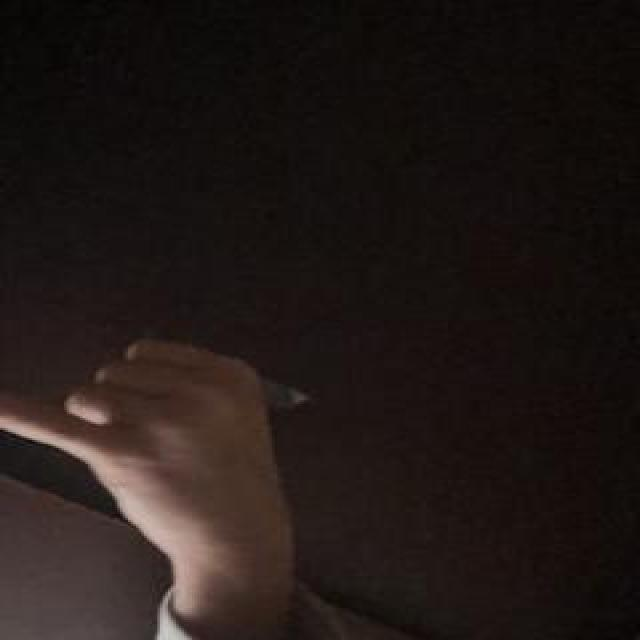J: (0, 331, 301, 561)
